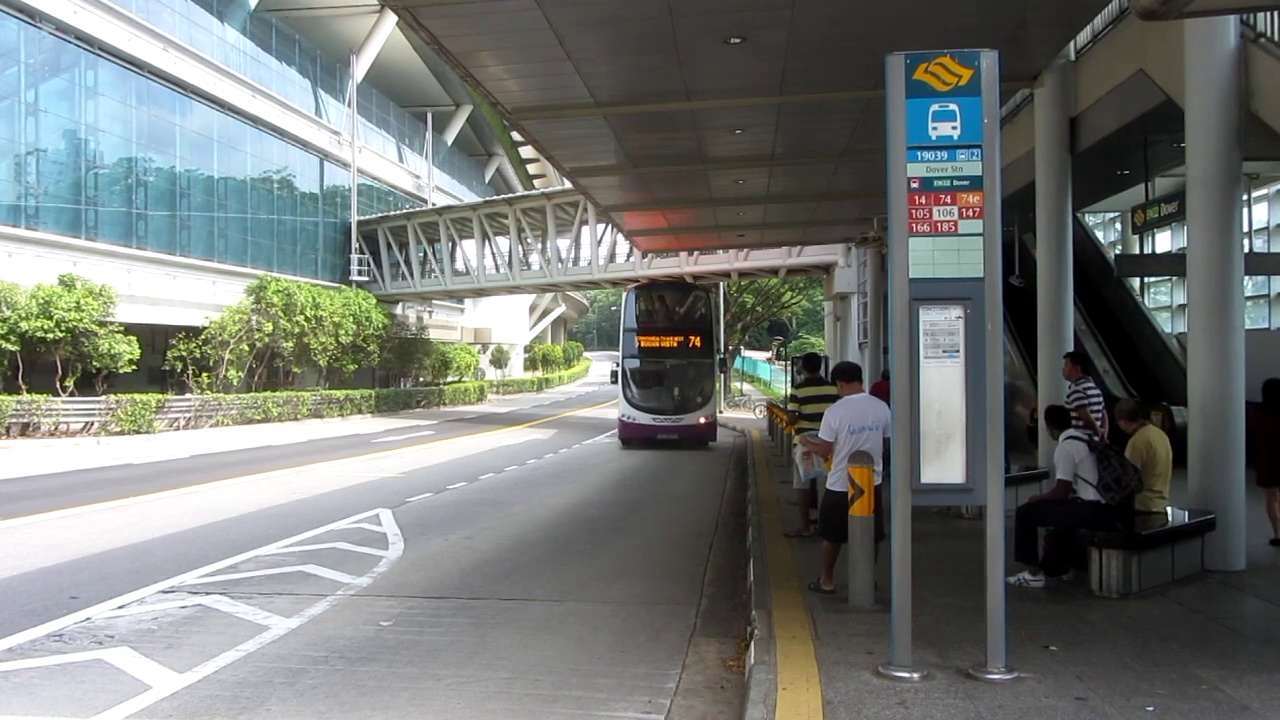bus panel: (632, 334, 703, 352)
